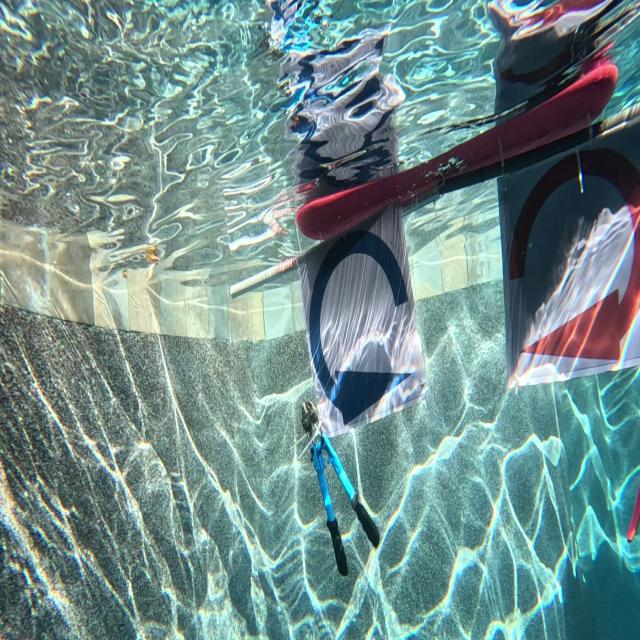blue_side: (306, 226, 418, 420)
red_side: (509, 153, 640, 368)
